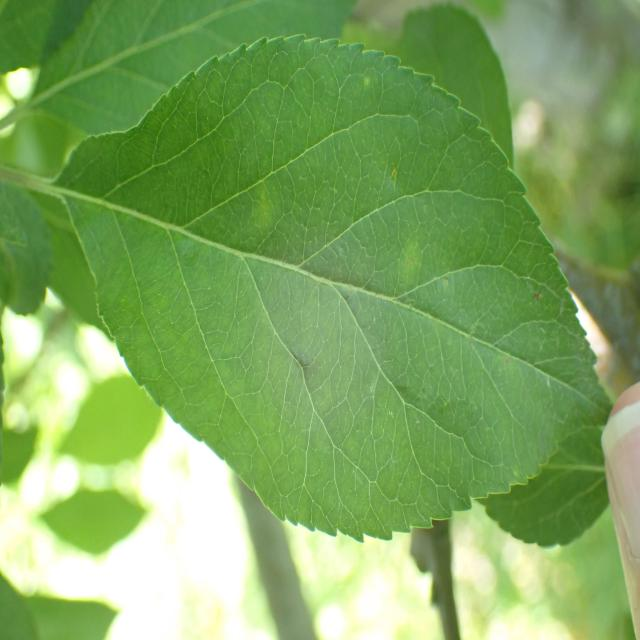scab: (133, 54, 580, 480)
